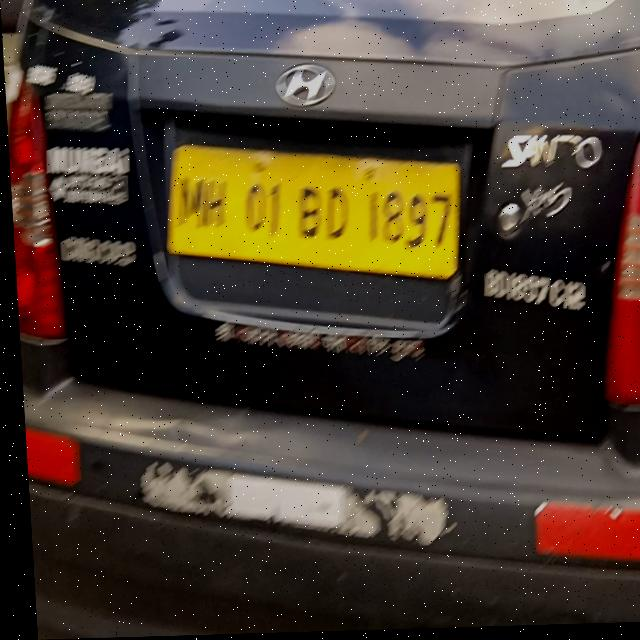plate: (162, 136, 461, 296)
